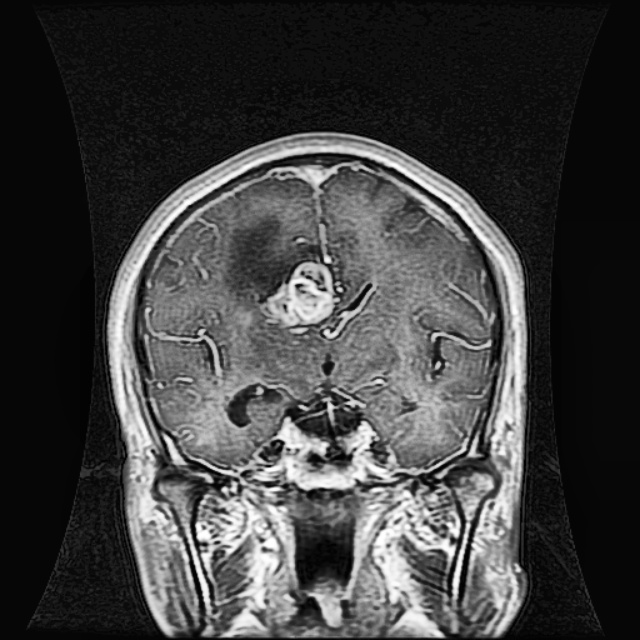Meningioma: (255, 255, 340, 333)
